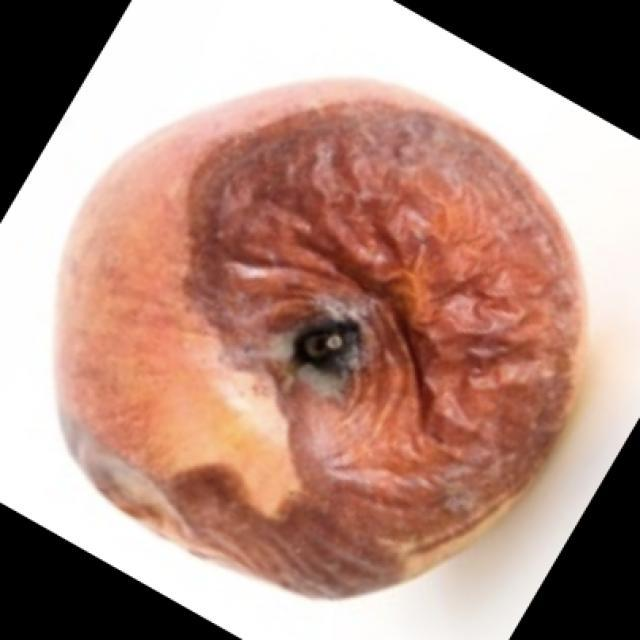Rotten: (98, 73, 572, 637)
